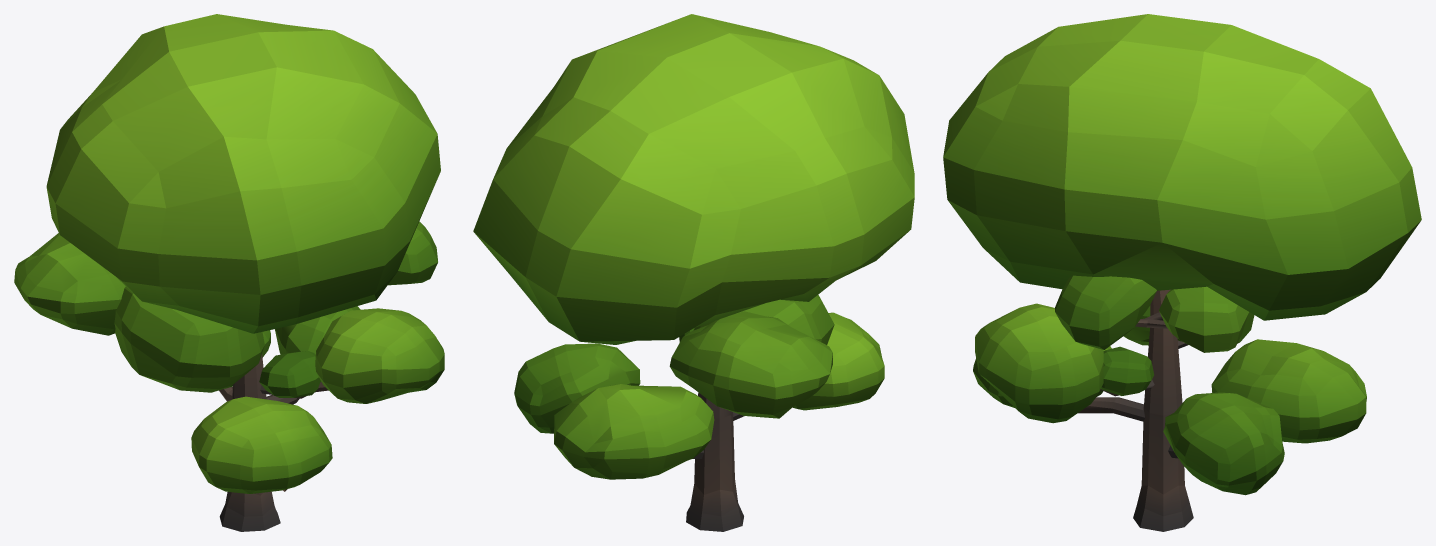
The model's file is xiangshu4.FBX.
3 views of the same model, side by side, from view 1: azimuth 30°, elevation 25°; view 2: azimuth 150°, elevation 25°; view 3: azimuth 270°, elevation 25° (orthographic). The views are drawn at different scales.
Visible parts, largest first — view 1: OakTree_01 - Default_0; view 2: OakTree_01 - Default_0; view 3: OakTree_01 - Default_0.
Boxes of the visible parts, x1=… form: OakTree_01 - Default_0: x1=14, y1=14, x2=444, y2=531; OakTree_01 - Default_0: x1=473, y1=14, x2=914, y2=531; OakTree_01 - Default_0: x1=943, y1=14, x2=1421, y2=531.
Size of the model in its own units: 66.41 by 86.9 by 78.48.
